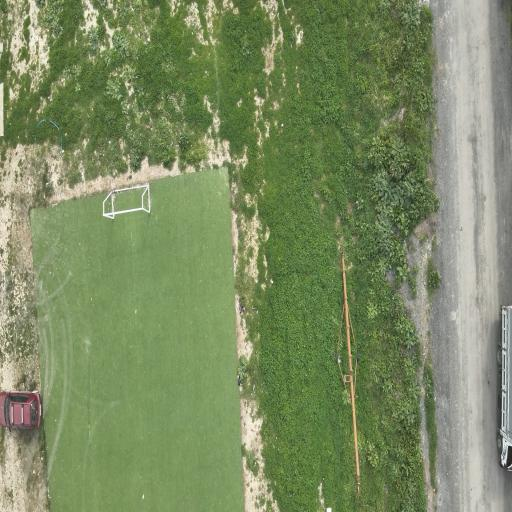car: (497, 305, 511, 469), (0, 390, 40, 427)
